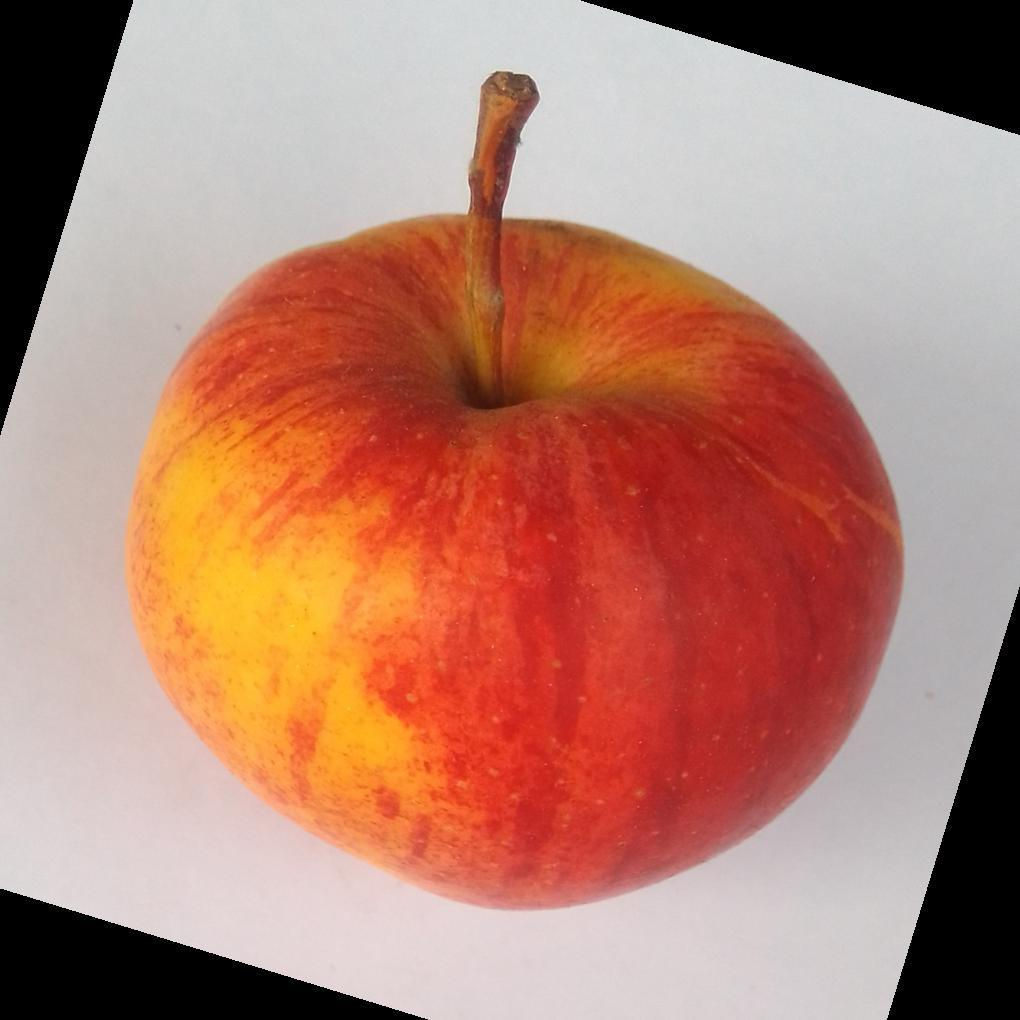FreshGuava: (122, 72, 905, 916)
